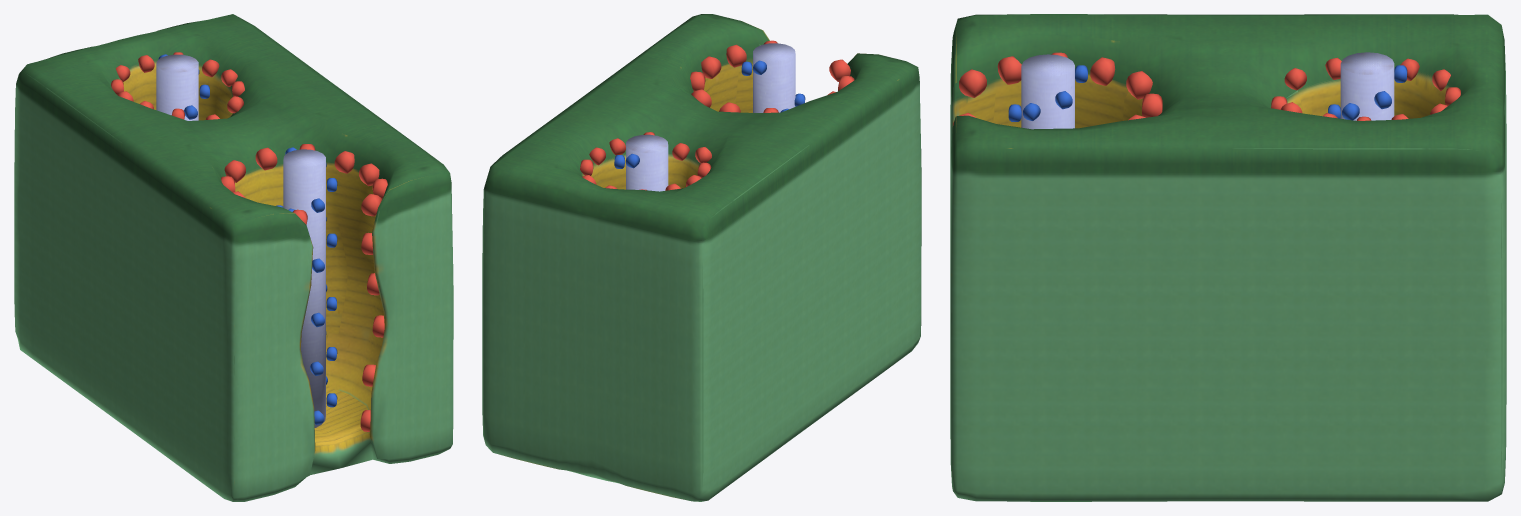
File: Plasmodesmata.fbx
3 renders of one model, left to right at view 1: azimuth 30°, elevation 25°; view 2: azimuth 150°, elevation 25°; view 3: azimuth 270°, elevation 25°, orthographic. The views are drawn at different scales.
Visible parts, largest first — view 1: Plasmodesmata; view 2: Plasmodesmata; view 3: Plasmodesmata.
Boxes of the visible parts, box(x1,y1,x2,y2) form: Plasmodesmata: box(14, 14, 453, 501); Plasmodesmata: box(482, 14, 921, 501); Plasmodesmata: box(950, 14, 1506, 501).
Bounding box in the file's own units: 260 × 333 × 448.
